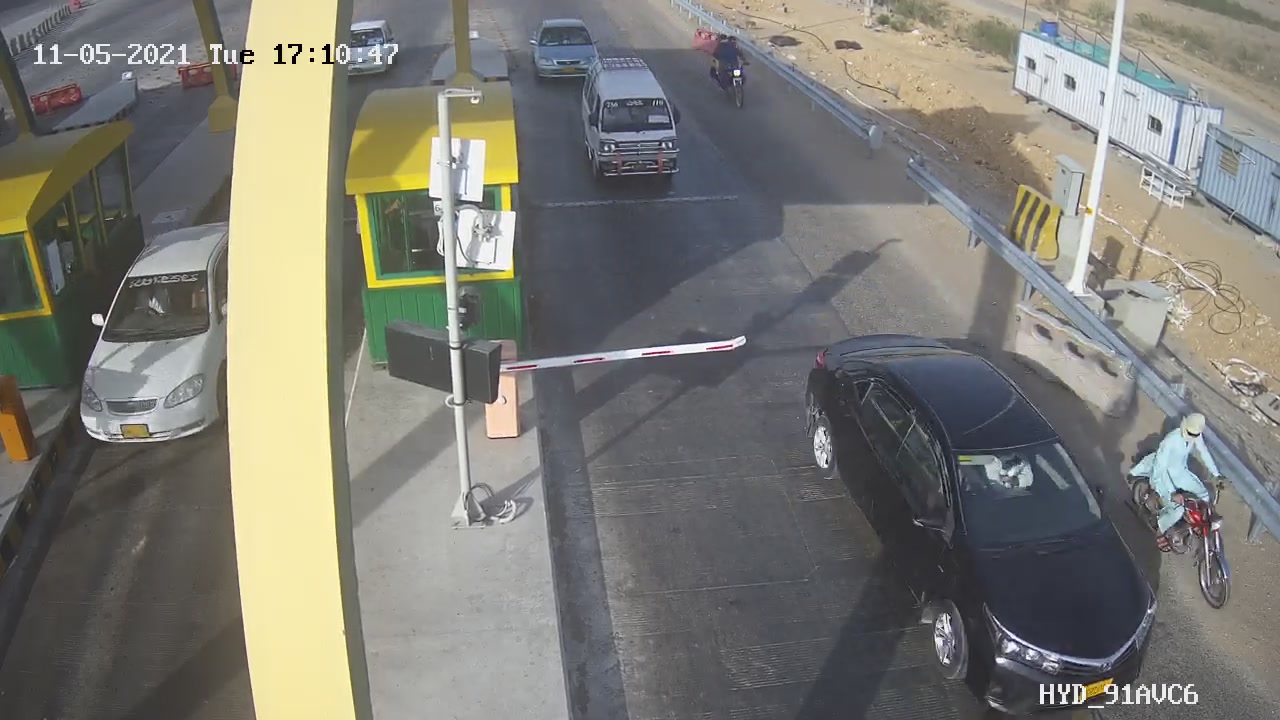F1: (563, 44, 703, 201)
